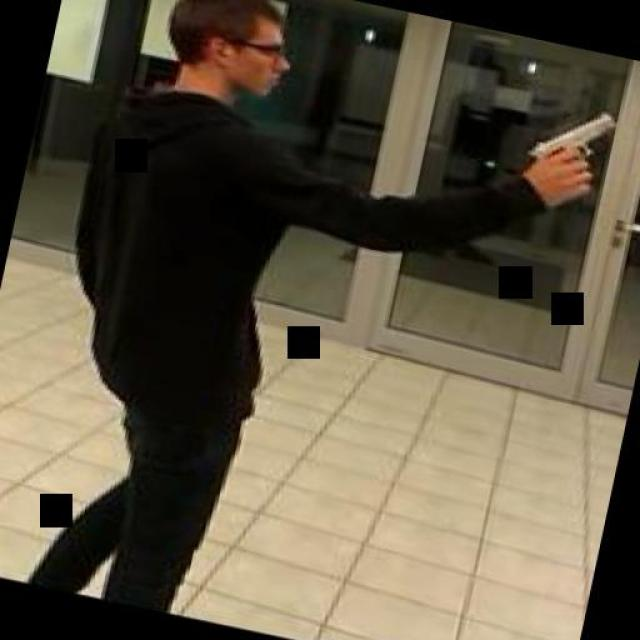gun: (511, 92, 619, 196)
